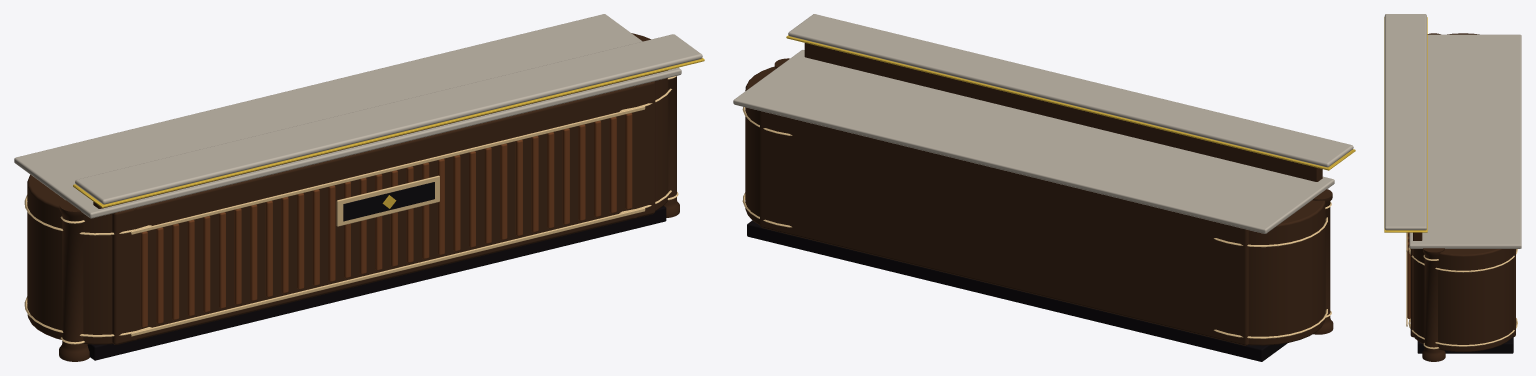
Rendered from reception.glb.
3 renders of one model, left to right at view 1: azimuth 30°, elevation 25°; view 2: azimuth 150°, elevation 25°; view 3: azimuth 270°, elevation 25°, orthographic. The views are drawn at different scales.
Visible parts, largest first — view 1: reception_woodDark, reception_marbleLight, reception_wood, reception_brass, reception_lacquer, reception_gold, reception_black; view 2: reception_woodDark, reception_marbleLight, reception_lacquer, reception_gold, reception_brass; view 3: reception_marbleLight, reception_woodDark, reception_brass, reception_gold, reception_lacquer, reception_wood.
Part boxes in pixels (<box>): reception_woodDark: <box>27,33,679,361</box>; reception_marbleLight: <box>14,14,702,218</box>; reception_wood: <box>140,113,632,327</box>; reception_brass: <box>24,76,678,344</box>; reception_lacquer: <box>87,206,666,360</box>; reception_gold: <box>73,58,704,208</box>; reception_black: <box>343,182,434,221</box>; reception_woodDark: <box>745,43,1333,345</box>; reception_marbleLight: <box>733,14,1353,233</box>; reception_lacquer: <box>747,220,1287,361</box>; reception_gold: <box>786,35,1355,170</box>; reception_brass: <box>742,107,1331,338</box>; reception_marbleLight: <box>1384,14,1521,248</box>; reception_woodDark: <box>1410,33,1515,361</box>; reception_brass: <box>1406,232,1517,349</box>; reception_gold: <box>1384,17,1427,232</box>; reception_lacquer: <box>1417,337,1513,353</box>; reception_wood: <box>1407,232,1410,318</box>.
Bounding box in the file's own units: 4.54 × 1.24 × 1.17.
